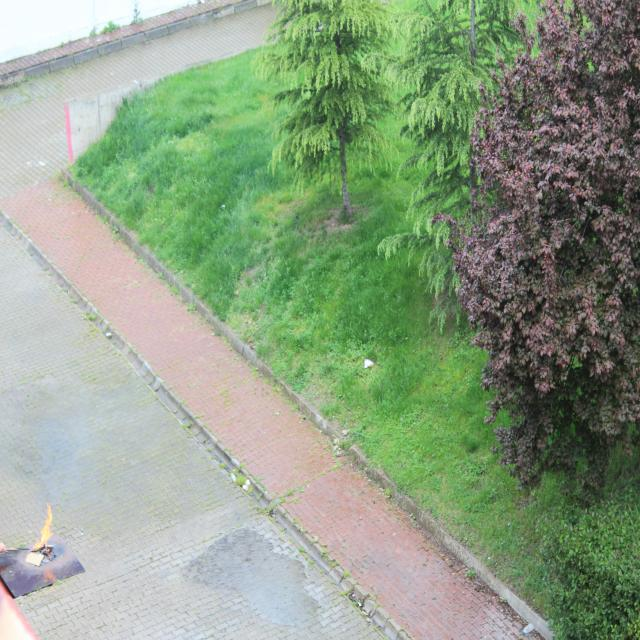fire: (23, 495, 62, 567)
